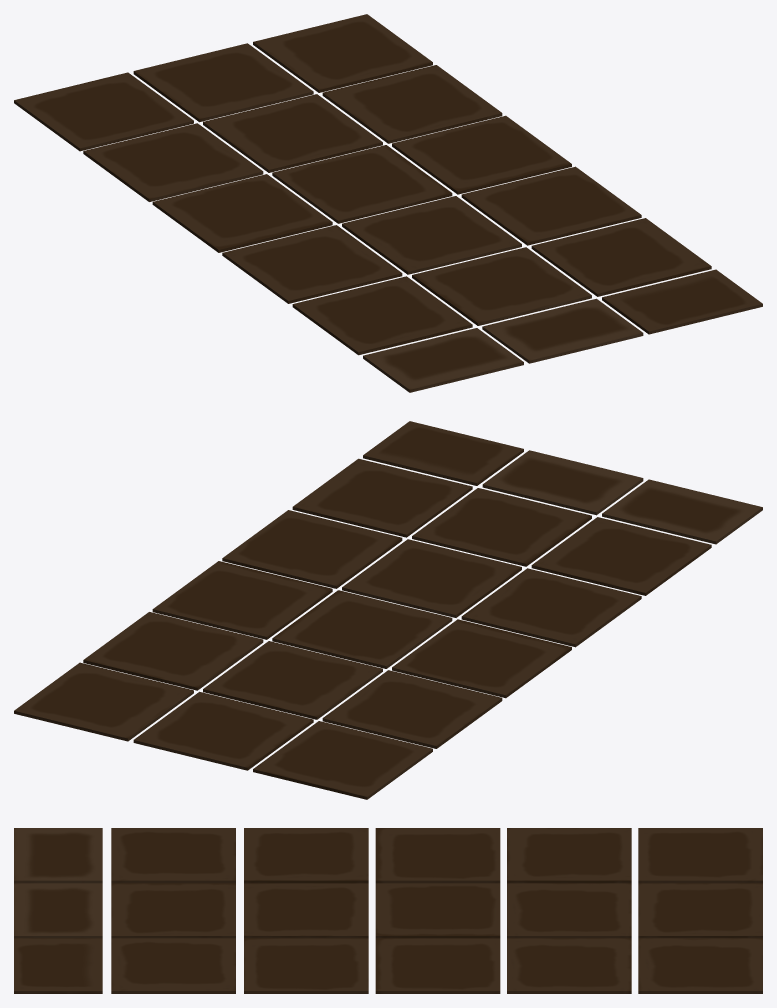
The model's file is 14_ceiling_tiles.fbx.
The picture shows the model from 3 angles, top to bottom: view 1: azimuth 30°, elevation 25°; view 2: azimuth 150°, elevation 25°; view 3: azimuth 270°, elevation 25°; orthographic projection. The views are drawn at different scales.
Parts seen in each view (by area): view 1: group51; view 2: group51; view 3: group51.
Boxes of the visible parts, x1=… form: group51: x1=14, y1=14, x2=762, y2=392; group51: x1=14, y1=421, x2=762, y2=799; group51: x1=14, y1=828, x2=762, y2=993.
Size of the model in its own units: 2697 by 21.78 by 5235.
